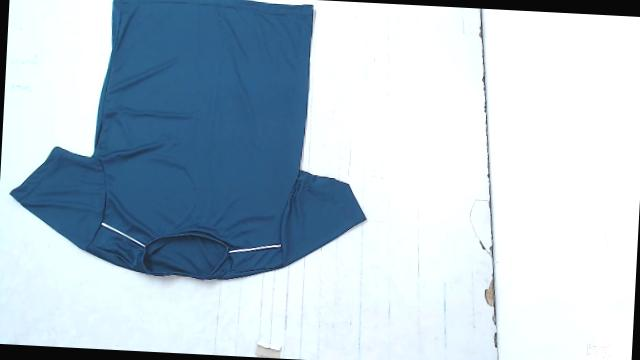new-garment: (10, 0, 365, 279)
